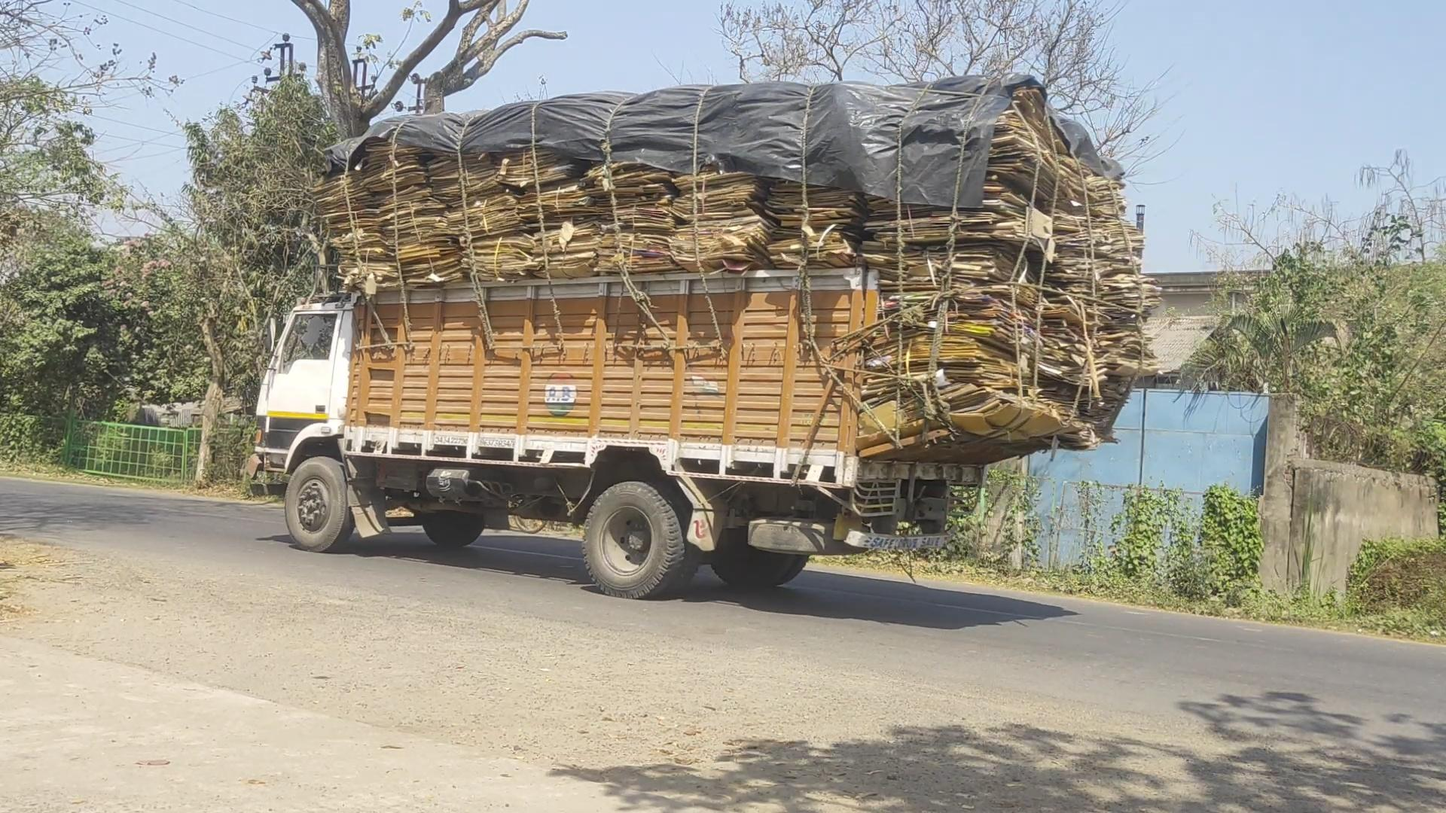truck: (253, 76, 1155, 599)
